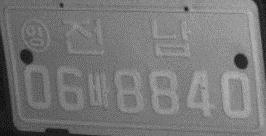0: (219, 70, 252, 119), (22, 63, 52, 112)
4: (185, 70, 215, 117)
6: (56, 65, 85, 112)
8: (147, 69, 180, 116), (113, 67, 144, 114)
바: (86, 70, 110, 107)
영: (20, 18, 51, 53)
전남_D: (61, 18, 193, 58)
